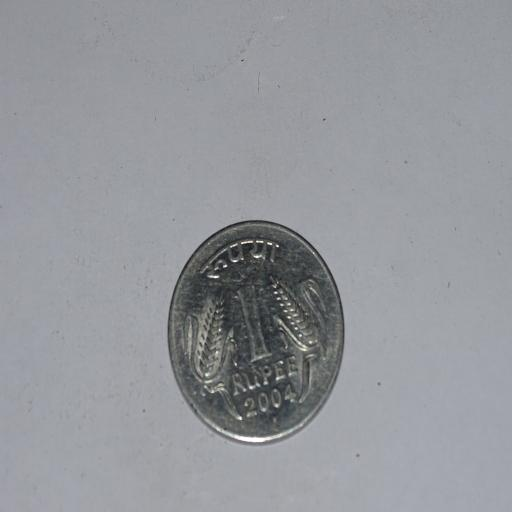rupee1: (167, 220, 348, 445)
